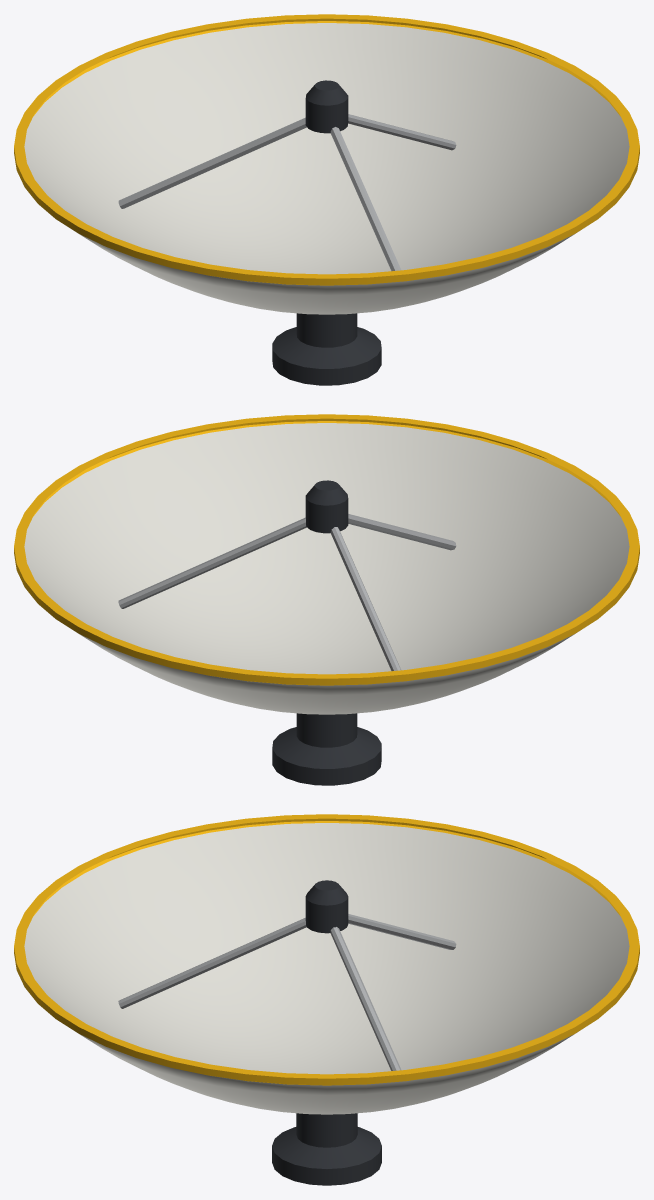
The model's file is dish.glb.
The picture shows the model from 3 angles, top to bottom: view 1: azimuth 30°, elevation 25°; view 2: azimuth 150°, elevation 25°; view 3: azimuth 270°, elevation 25°; orthographic projection.
Parts seen in each view (by area): view 1: Bowl, Rim.001, Mast, Struts, Feed; view 2: Bowl, Rim.001, Mast, Struts, Feed; view 3: Bowl, Rim.001, Mast, Struts, Feed.
Boxes of the visible parts, box(x1,y1,x2,y2) form: Bowl: box(24, 23, 629, 314); Rim.001: box(14, 14, 639, 285); Mast: box(272, 313, 381, 385); Struts: box(118, 114, 456, 271); Feed: box(305, 80, 348, 133); Bowl: box(24, 423, 629, 714); Rim.001: box(14, 414, 639, 685); Mast: box(272, 713, 381, 785); Struts: box(118, 514, 456, 670); Feed: box(305, 480, 348, 533); Bowl: box(24, 823, 629, 1114); Rim.001: box(14, 814, 639, 1085); Mast: box(272, 1113, 381, 1185); Struts: box(118, 914, 456, 1070); Feed: box(305, 880, 348, 933).
Size of the model in its own units: 1.02 by 0.5 by 1.02.
